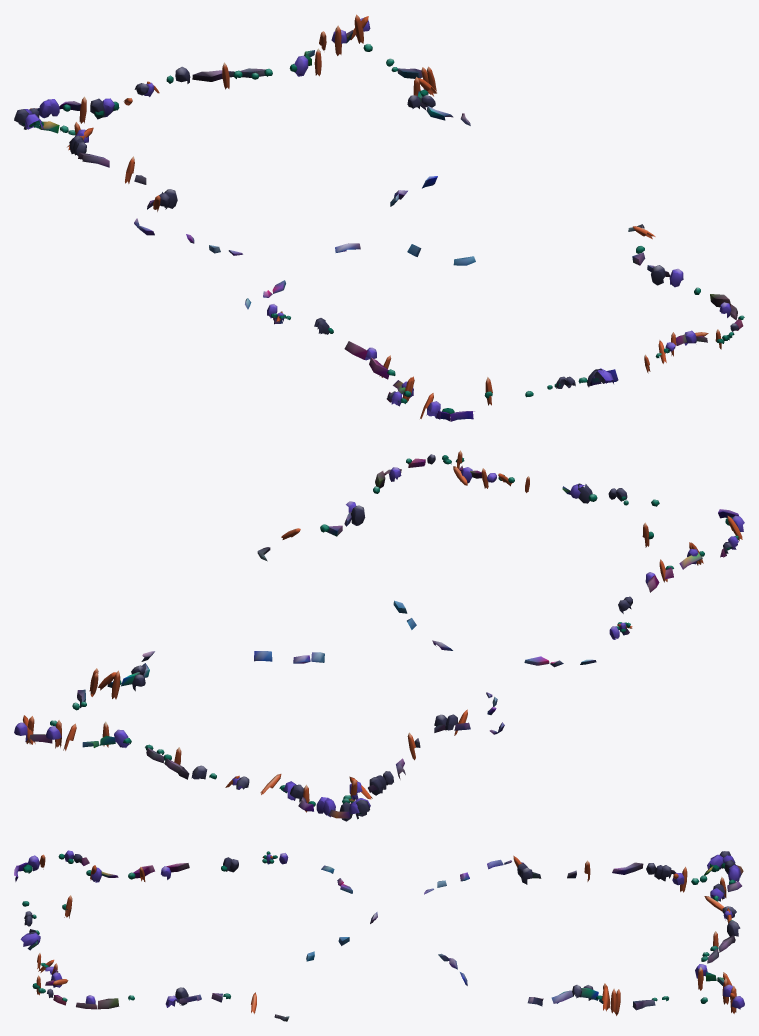
File: v9_level_debris.fbx
3 renders of one model, top to bottom at view 1: azimuth 30°, elevation 25°; view 2: azimuth 150°, elevation 25°; view 3: azimuth 270°, elevation 25°, orthographic. The views are drawn at different scales.
Visible parts, largest first — view 1: null1; view 2: null1; view 3: null1.
Part boxes in pixels (left/top/right/bottom): null1: left=14, top=14, right=744, bottom=421; null1: left=14, top=450, right=744, bottom=821; null1: left=14, top=850, right=744, bottom=1021.
Bounding box in the file's own units: 99.45 × 11.54 × 192.
